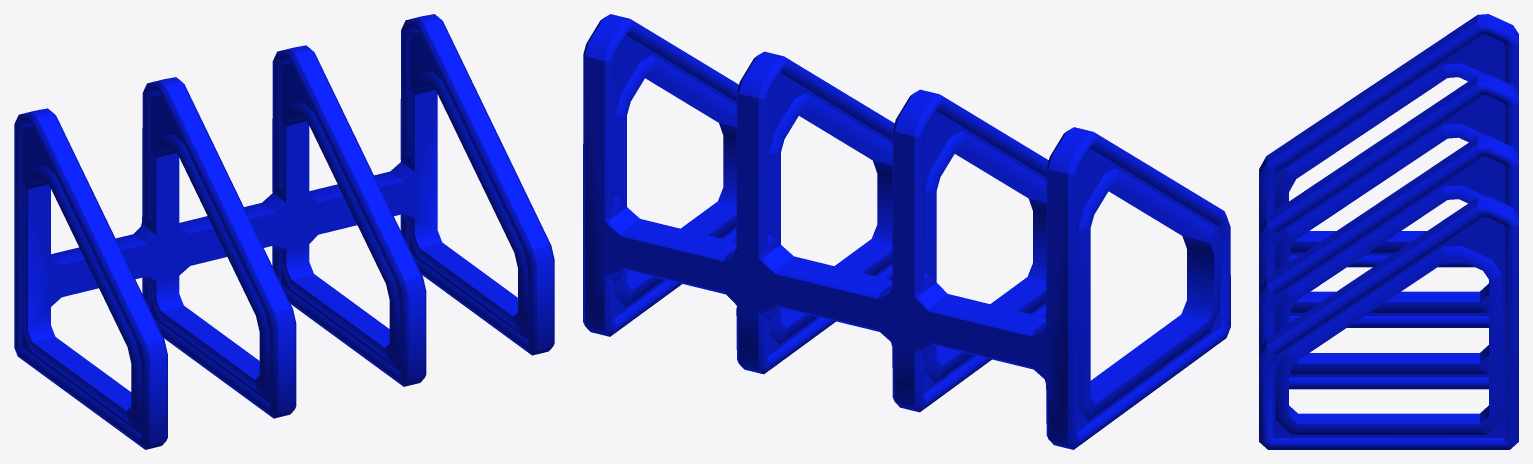
Rendered from SM_Tram_Holders.FBX.
The picture shows the model from 3 angles, left to right: view 1: azimuth 30°, elevation 25°; view 2: azimuth 150°, elevation 25°; view 3: azimuth 270°, elevation 25°; orthographic projection. The views are drawn at different scales.
Visible parts, largest first — view 1: holders; view 2: holders; view 3: holders.
Boxes of the visible parts, left/top/right/bottom form: holders: left=14, top=14, right=554, bottom=449; holders: left=583, top=14, right=1230, bottom=449; holders: left=1259, top=14, right=1518, bottom=449.
Size of the model in its own units: 124 by 73.56 by 70.49.
